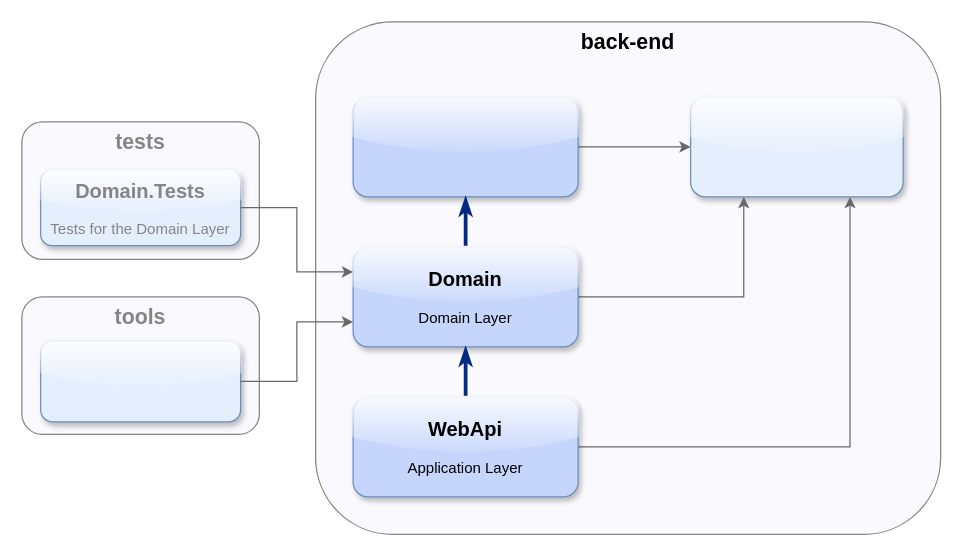
This 963x556 diagram has some shape labels left out. The shapes that lost their labels are listed below. From the top down, each one's centre as x and y in pixels, then its label:
(466,148): Database DB aggregates and indexes
(797,148): Database.Common Shared auxiliary structures
(141,382): TicketImporter Seeds the DB with tickets from GitHub
